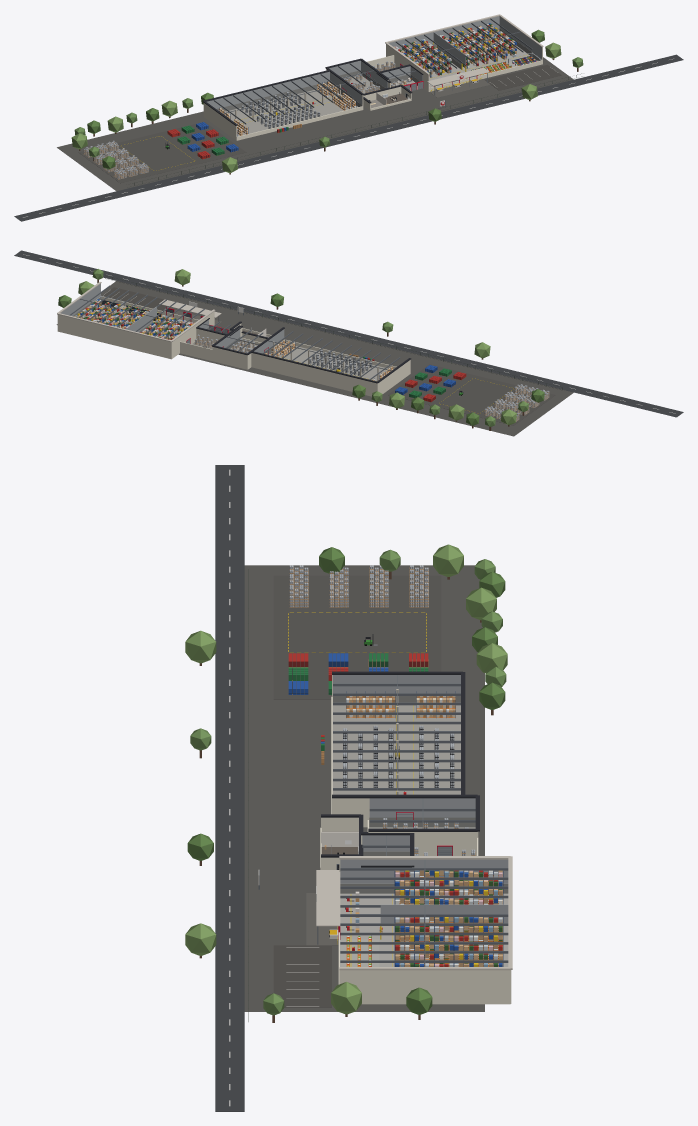
File: depot-ayguesvives.glb
3 renders of one model, top to bottom at view 1: azimuth 30°, elevation 25°; view 2: azimuth 150°, elevation 25°; view 3: azimuth 270°, elevation 25°, orthographic. The views are drawn at different scales.
Parts seen in each view (by area): view 1: Terrain #5f5d5a, Terrain #46494c, Bâtiments #a9adb1, Sols #5a5855, Bâtiments #ece6d6, Fûts #b7bcc2, Charpente #6d737a, Sols #a9a7a1, Arbres #7c9a5e, Bâtiments #8e8f8c, Bâtiments #2d2f36, Sols #55534f (+19 smaller); view 2: Terrain #5f5d5a, Bâtiments #ece6d6, Terrain #46494c, Sols #5a5855, Charpente #6d737a, Fûts #b7bcc2, Bâtiments #a9adb1, Arbres #7c9a5e, Sols #a9a7a1, Bâtiments #2d2f36, Arbres #5f8048, Fûts #b98f62 (+9 smaller); view 3: Terrain #5f5d5a, Terrain #46494c, Sols #5a5855, Charpente #6d737a, Bâtiments #a9adb1, Bâtiments #ece6d6, Sols #a9a7a1, Fûts #b7bcc2, Arbres #7c9a5e, Sols #55534f, Bâtiments #2d2f36, Arbres #5f8048 (+10 smaller).
Boxes of the visible parts, x1=… form: Terrain #5f5d5a: x1=57, y1=57, x2=573, y2=191; Terrain #46494c: x1=14, y1=54, x2=683, y2=221; Bâtiments #a9adb1: x1=206, y1=16, x2=541, y2=108; Sols #5a5855: x1=78, y1=122, x2=246, y2=183; Bâtiments #ece6d6: x1=203, y1=44, x2=542, y2=140; Fûts #b7bcc2: x1=84, y1=61, x2=408, y2=179; Charpente #6d737a: x1=213, y1=18, x2=532, y2=124; Sols #a9a7a1: x1=226, y1=76, x2=380, y2=136; Arbres #7c9a5e: x1=71, y1=42, x2=561, y2=173; Bâtiments #8e8f8c: x1=216, y1=28, x2=541, y2=111; Bâtiments #2d2f36: x1=203, y1=58, x2=423, y2=125; Sols #55534f: x1=485, y1=64, x2=561, y2=90; Terrain #5f5d5a: x1=56, y1=281, x2=573, y2=436; Bâtiments #ece6d6: x1=57, y1=296, x2=410, y2=396; Terrain #46494c: x1=14, y1=250, x2=683, y2=417; Sols #5a5855: x1=388, y1=364, x2=555, y2=425; Charpente #6d737a: x1=69, y1=285, x2=400, y2=379; Fûts #b7bcc2: x1=195, y1=334, x2=549, y2=421; Bâtiments #a9adb1: x1=61, y1=284, x2=284, y2=353; Arbres #7c9a5e: x1=78, y1=269, x2=516, y2=425; Sols #a9a7a1: x1=230, y1=342, x2=387, y2=380; Bâtiments #2d2f36: x1=196, y1=318, x2=411, y2=383; Arbres #5f8048: x1=58, y1=293, x2=544, y2=425; Fûts #b98f62: x1=195, y1=336, x2=549, y2=421; Terrain #5f5d5a: x1=244, y1=565, x2=484, y2=1011; Terrain #46494c: x1=215, y1=465, x2=244, y2=1111; Sols #5a5855: x1=273, y1=575, x2=441, y2=699; Charpente #6d737a: x1=333, y1=675, x2=508, y2=966; Bâtiments #a9adb1: x1=333, y1=675, x2=508, y2=929; Bâtiments #ece6d6: x1=320, y1=675, x2=511, y2=1004; Sols #a9a7a1: x1=332, y1=704, x2=475, y2=828; Fûts #b7bcc2: x1=289, y1=565, x2=475, y2=855; Arbres #7c9a5e: x1=185, y1=544, x2=507, y2=1014; Sols #55534f: x1=273, y1=945, x2=331, y2=1007; Bâtiments #2d2f36: x1=321, y1=671, x2=479, y2=867; Arbres #5f8048: x1=187, y1=547, x2=505, y2=1014.
Bounding box in the file's own units: 420 × 11.09 × 89.86.
Materials: 93 (1 with a texture image).
